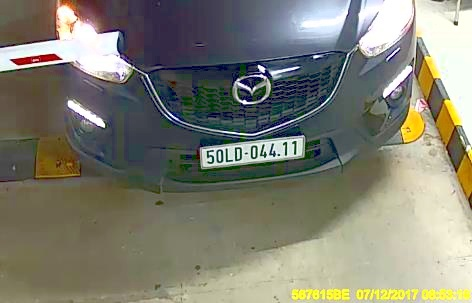plate: (194, 137, 311, 170)
